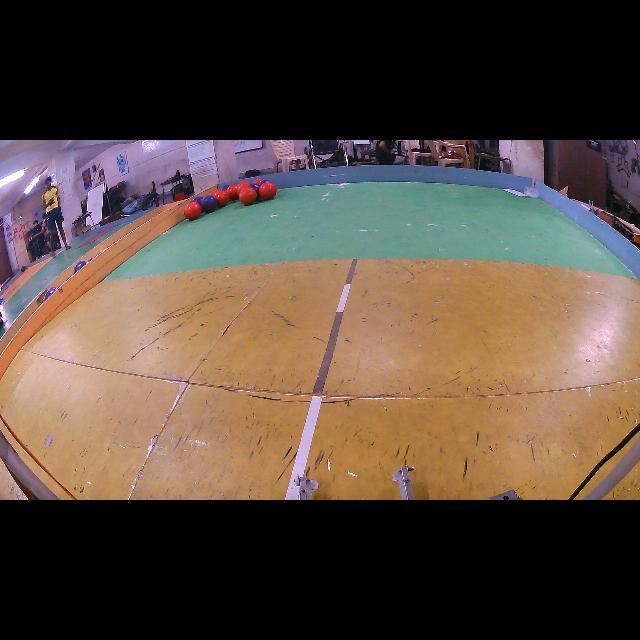P: (201, 195, 218, 212), (44, 286, 58, 301), (74, 261, 86, 273), (249, 182, 260, 194), (192, 196, 204, 204), (259, 180, 268, 186), (221, 185, 229, 191)
R: (239, 186, 258, 205), (259, 181, 278, 200), (184, 202, 201, 220), (214, 190, 230, 208), (226, 184, 239, 200), (238, 182, 249, 195), (238, 181, 250, 186), (252, 179, 262, 184)
